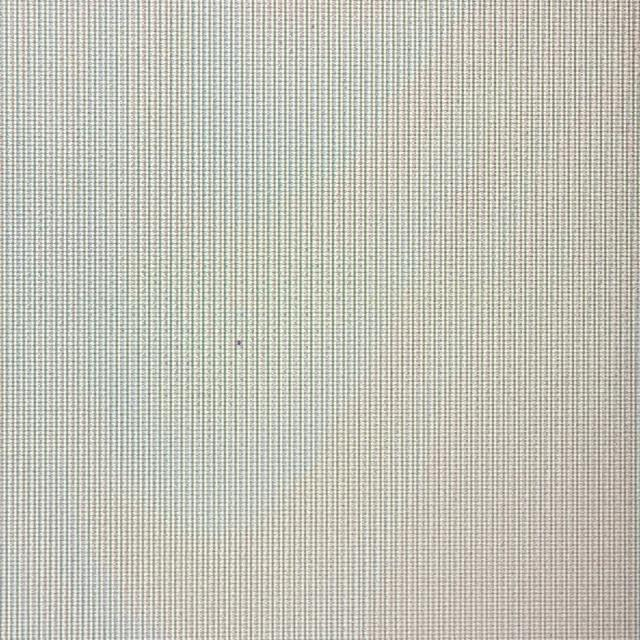Dead pixel: (236, 339, 242, 346)
